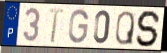0: (92, 10, 111, 46)
3: (22, 6, 41, 44)
G: (68, 8, 90, 45)
Q: (114, 10, 136, 46)
S: (135, 9, 163, 48)
T: (48, 7, 65, 45)
